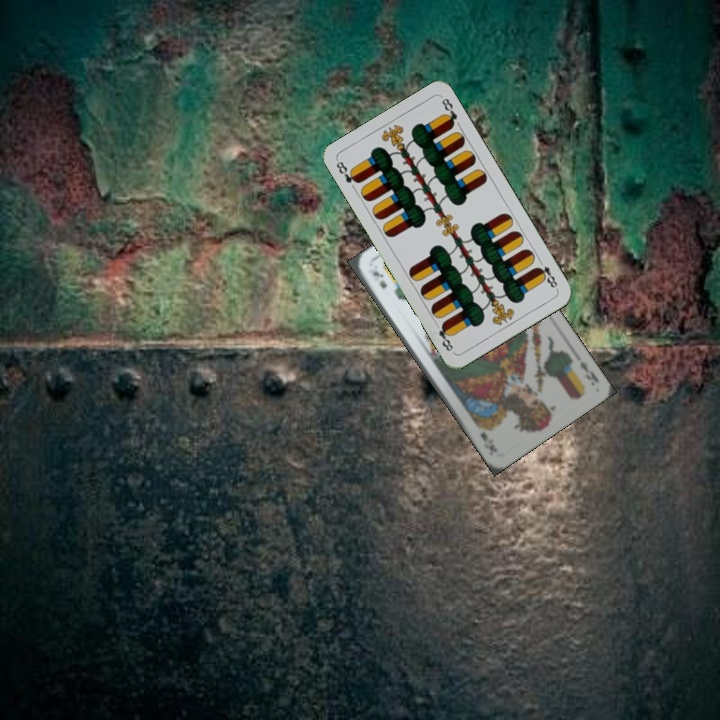E8: (532, 255, 560, 292), (332, 157, 362, 186)
EK: (575, 357, 601, 385), (368, 266, 390, 291)
